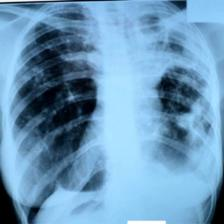tuberculosis: (2, 7, 219, 224)
